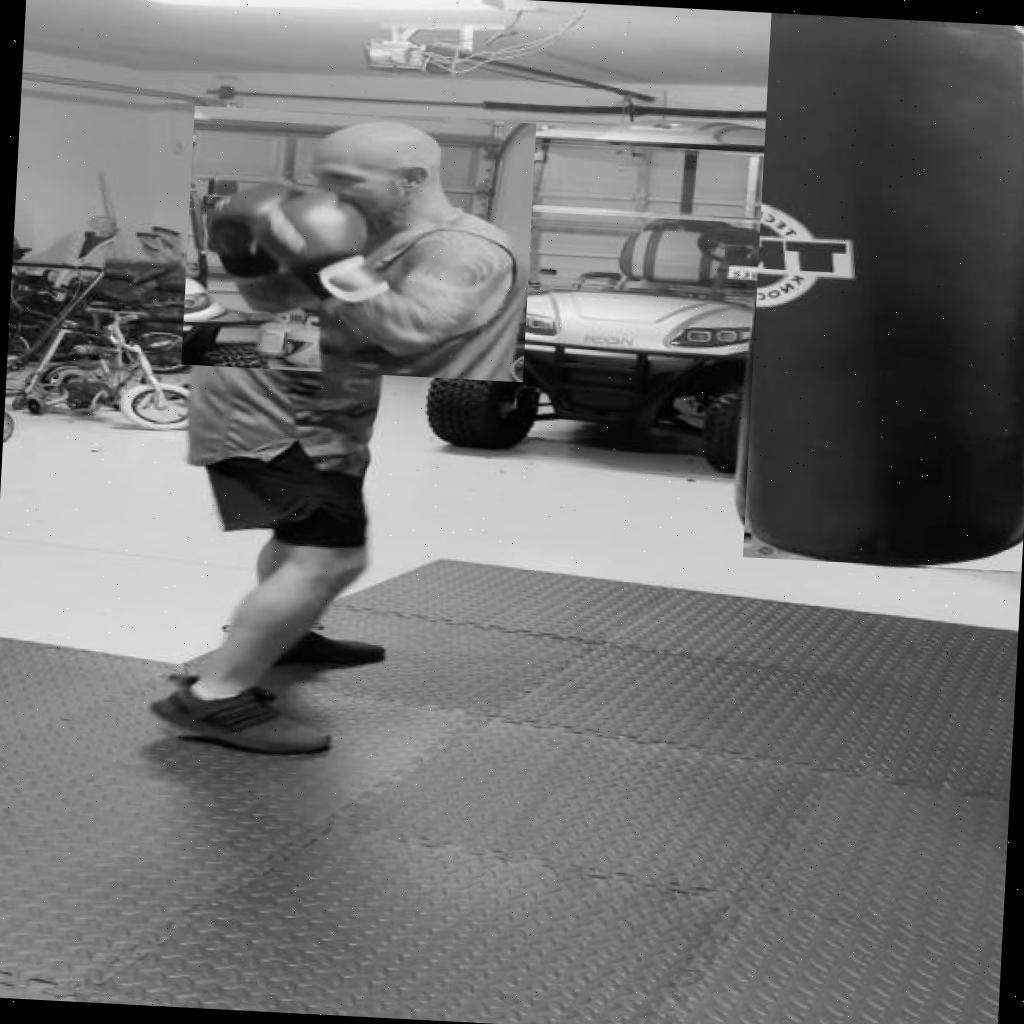bag: (743, 13, 1024, 572)
no punch: (182, 106, 536, 382)
